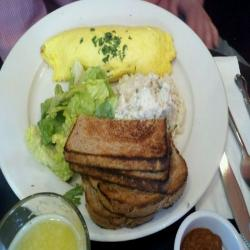bread: (69, 118, 194, 233)
ketchup: (173, 219, 226, 250)
omelette: (38, 19, 184, 88)
rice: (103, 70, 192, 136)
salad: (29, 76, 114, 175)
